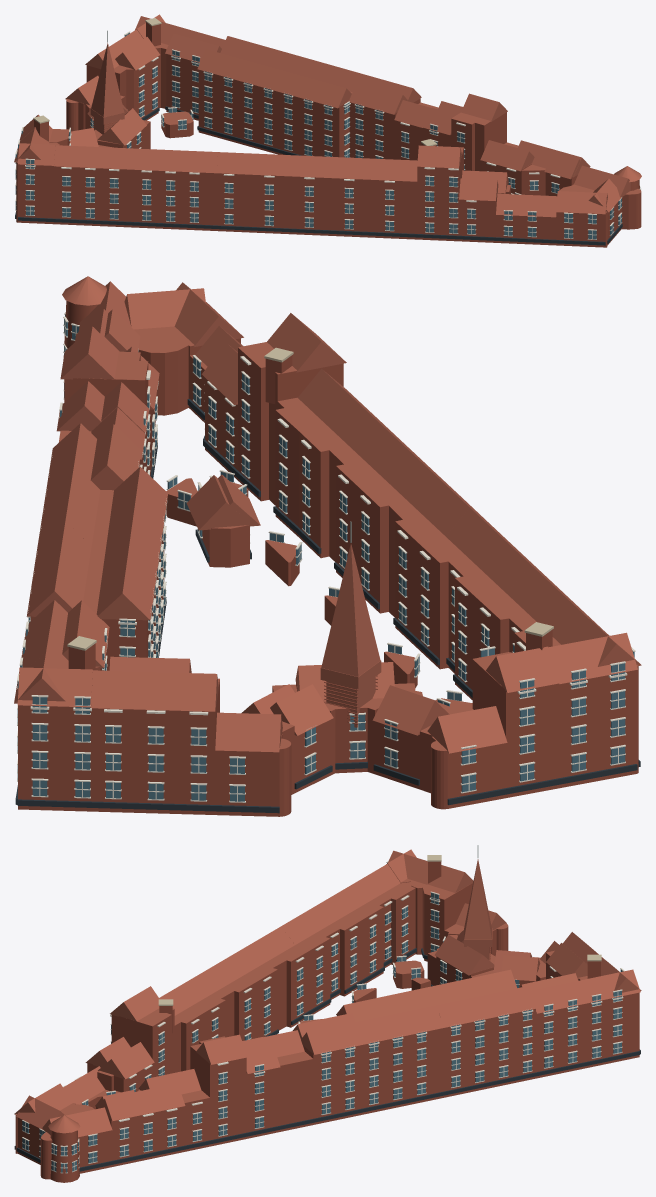
Rendered from het-schip.glb.
3 views of the same model, one above another, from view 1: azimuth 30°, elevation 25°; view 2: azimuth 150°, elevation 25°; view 3: azimuth 270°, elevation 25° (orthographic). The views are drawn at different scales.
Visible parts, largest first — view 1: het-schip; view 2: het-schip; view 3: het-schip.
Part boxes in pixels (box(x1,y1,x2,y2)): het-schip: box(14, 14, 641, 247); het-schip: box(14, 276, 641, 816); het-schip: box(14, 845, 641, 1182).
Size of the model in its own units: 105 by 28.69 by 109.
